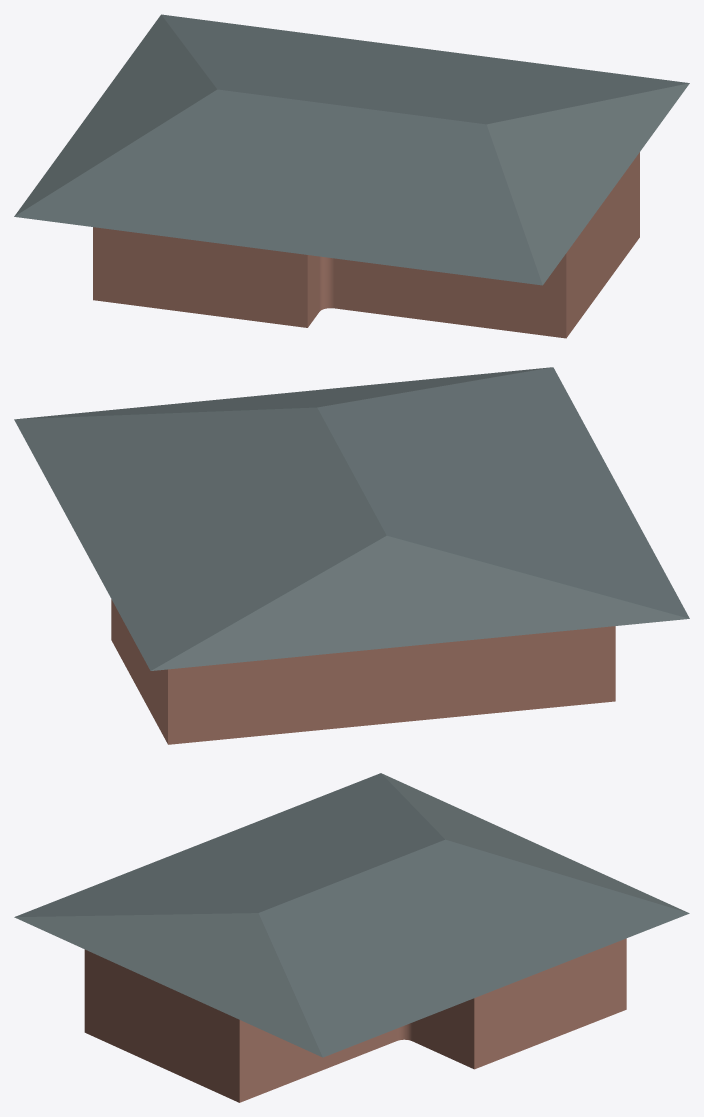
The model's file is landmark-05b099a3-e0e7-4106-983c-5a74872a5623.glb.
3 views of the same model, one above another, from view 1: azimuth 30°, elevation 25°; view 2: azimuth 150°, elevation 25°; view 3: azimuth 270°, elevation 25° (orthographic). The views are drawn at different scales.
Visible parts, largest first — view 1: landmark-05b099a3-e0e7-4106-983c-5a74872a5623; view 2: landmark-05b099a3-e0e7-4106-983c-5a74872a5623; view 3: landmark-05b099a3-e0e7-4106-983c-5a74872a5623.
Part boxes in pixels (x1,y1,x2,y2): landmark-05b099a3-e0e7-4106-983c-5a74872a5623: (14,14,689,338); landmark-05b099a3-e0e7-4106-983c-5a74872a5623: (14,367,689,744); landmark-05b099a3-e0e7-4106-983c-5a74872a5623: (14,773,689,1102).
Size of the model in its own units: 62.6 by 13 by 62.83.
